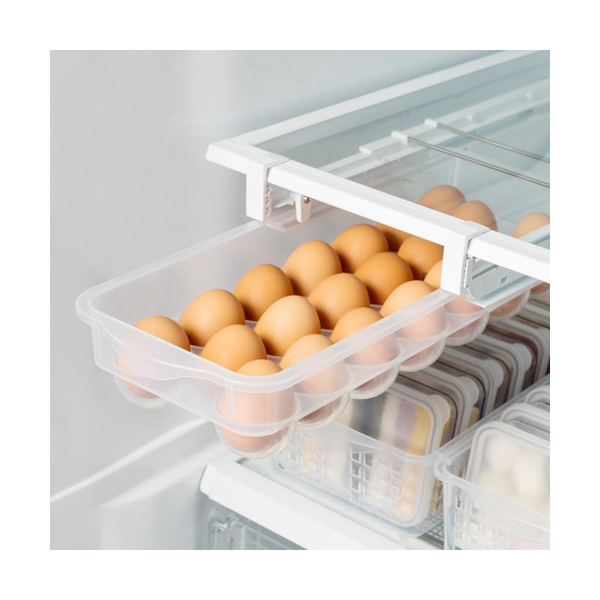egg: (131, 225, 443, 399)
